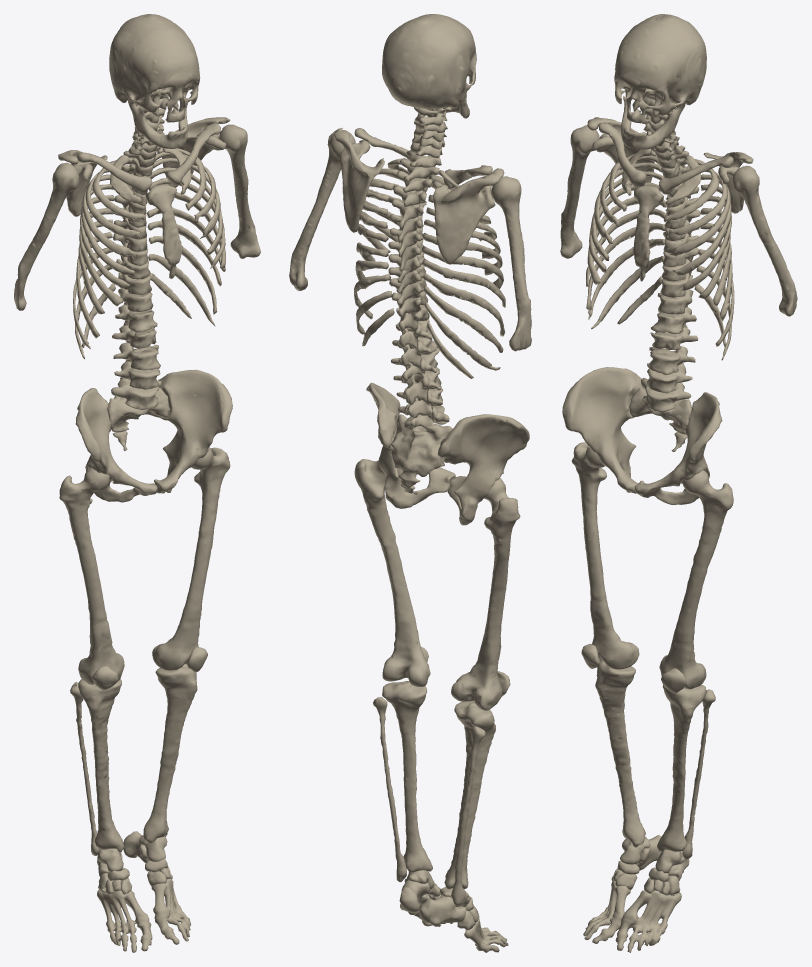
File: vhf_denver_ct_adult_female.skeletal.LOD3.glb
The picture shows the model from 3 angles, left to right: view 1: azimuth 30°, elevation 25°; view 2: azimuth 150°, elevation 25°; view 3: azimuth 330°, elevation 25°; orthographic projection. The views are drawn at different scales.
Visible parts, largest first — view 1: VHF_DENVER_CT.ADULT.FEMALE.SKELETAL.SKULL_CRANIUM_AND_MANDIB, VHF_DENVER_CT.ADULT.FEMALE.SKELETAL.HIP_BONE_OS_COXAE.L, VHF_DENVER_CT.ADULT.FEMALE.SKELETAL.FEMUR.R, VHF_DENVER_CT.ADULT.FEMALE.SKELETAL.FEMUR.L, VHF_DENVER_CT.ADULT.FEMALE.SKELETAL.TIBIA.L, VHF_DENVER_CT.ADULT.FEMALE.SKELETAL.METATARSALS_AND_PHALANGE (×2), VHF_DENVER_CT.ADULT.FEMALE.SKELETAL.HIP_BONE_OS_COXAE.R, VHF_DENVER_CT.ADULT.FEMALE.SKELETAL.TIBIA.R, VHF_DENVER_CT.ADULT.FEMALE.SKELETAL.HUMERUS.L, VHF_DENVER_CT.ADULT.FEMALE.SKELETAL.HUMERUS.R, VHF_DENVER_CT.ADULT.FEMALE.SKELETAL.STERNUM, VHF_DENVER_CT.ADULT.FEMALE.SKELETAL.VERTEBRA_L3 (+20 smaller); view 2: VHF_DENVER_CT.ADULT.FEMALE.SKELETAL.SKULL_CRANIUM_AND_MANDIB, VHF_DENVER_CT.ADULT.FEMALE.SKELETAL.HIP_BONE_OS_COXAE.R, VHF_DENVER_CT.ADULT.FEMALE.SKELETAL.FEMUR.L, VHF_DENVER_CT.ADULT.FEMALE.SKELETAL.FEMUR.R, VHF_DENVER_CT.ADULT.FEMALE.SKELETAL.SCAPULA.R, VHF_DENVER_CT.ADULT.FEMALE.SKELETAL.TIBIA.L, VHF_DENVER_CT.ADULT.FEMALE.SKELETAL.HIP_BONE_OS_COXAE.L, VHF_DENVER_CT.ADULT.FEMALE.SKELETAL.TIBIA.R, VHF_DENVER_CT.ADULT.FEMALE.SKELETAL.HUMERUS.R, VHF_DENVER_CT.ADULT.FEMALE.SKELETAL.SACRUM, VHF_DENVER_CT.ADULT.FEMALE.SKELETAL.SCAPULA.L, VHF_DENVER_CT.ADULT.FEMALE.SKELETAL.HUMERUS.L (+16 smaller); view 3: VHF_DENVER_CT.ADULT.FEMALE.SKELETAL.SKULL_CRANIUM_AND_MANDIB, VHF_DENVER_CT.ADULT.FEMALE.SKELETAL.HIP_BONE_OS_COXAE.R, VHF_DENVER_CT.ADULT.FEMALE.SKELETAL.FEMUR.L, VHF_DENVER_CT.ADULT.FEMALE.SKELETAL.FEMUR.R, VHF_DENVER_CT.ADULT.FEMALE.SKELETAL.TIBIA.R, VHF_DENVER_CT.ADULT.FEMALE.SKELETAL.METATARSALS_AND_PHALANGE (×2), VHF_DENVER_CT.ADULT.FEMALE.SKELETAL.HIP_BONE_OS_COXAE.L, VHF_DENVER_CT.ADULT.FEMALE.SKELETAL.TIBIA.L, VHF_DENVER_CT.ADULT.FEMALE.SKELETAL.HUMERUS.L, VHF_DENVER_CT.ADULT.FEMALE.SKELETAL.HUMERUS.R, VHF_DENVER_CT.ADULT.FEMALE.SKELETAL.VERTEBRA_L3, VHF_DENVER_CT.ADULT.FEMALE.SKELETAL.STERNUM (+20 smaller).
Boxes of the visible parts, box(x1,y1,x2,y2) form: VHF_DENVER_CT.ADULT.FEMALE.SKELETAL.SKULL_CRANIUM_AND_MANDIB: box(109, 14, 200, 148); VHF_DENVER_CT.ADULT.FEMALE.SKELETAL.HIP_BONE_OS_COXAE.L: box(154, 369, 232, 493); VHF_DENVER_CT.ADULT.FEMALE.SKELETAL.FEMUR.R: box(59, 467, 124, 684); VHF_DENVER_CT.ADULT.FEMALE.SKELETAL.FEMUR.L: box(152, 447, 230, 670); VHF_DENVER_CT.ADULT.FEMALE.SKELETAL.TIBIA.L: box(143, 664, 197, 843); VHF_DENVER_CT.ADULT.FEMALE.SKELETAL.METATARSALS_AND_PHALANGE (×2): box(97, 878, 190, 952); VHF_DENVER_CT.ADULT.FEMALE.SKELETAL.HIP_BONE_OS_COXAE.R: box(75, 388, 157, 502); VHF_DENVER_CT.ADULT.FEMALE.SKELETAL.TIBIA.R: box(78, 679, 124, 852); VHF_DENVER_CT.ADULT.FEMALE.SKELETAL.HUMERUS.L: box(219, 124, 260, 258); VHF_DENVER_CT.ADULT.FEMALE.SKELETAL.HUMERUS.R: box(14, 162, 79, 310); VHF_DENVER_CT.ADULT.FEMALE.SKELETAL.STERNUM: box(145, 184, 182, 278); VHF_DENVER_CT.ADULT.FEMALE.SKELETAL.VERTEBRA_L3: box(112, 325, 160, 370); VHF_DENVER_CT.ADULT.FEMALE.SKELETAL.SKULL_CRANIUM_AND_MANDIB: box(382, 14, 476, 118); VHF_DENVER_CT.ADULT.FEMALE.SKELETAL.HIP_BONE_OS_COXAE.R: box(437, 414, 529, 525); VHF_DENVER_CT.ADULT.FEMALE.SKELETAL.FEMUR.L: box(354, 459, 430, 686); VHF_DENVER_CT.ADULT.FEMALE.SKELETAL.FEMUR.R: box(451, 478, 520, 710); VHF_DENVER_CT.ADULT.FEMALE.SKELETAL.SCAPULA.R: box(433, 168, 504, 264); VHF_DENVER_CT.ADULT.FEMALE.SKELETAL.TIBIA.L: box(382, 681, 432, 872); VHF_DENVER_CT.ADULT.FEMALE.SKELETAL.HIP_BONE_OS_COXAE.L: box(366, 382, 455, 508); VHF_DENVER_CT.ADULT.FEMALE.SKELETAL.TIBIA.R: box(444, 701, 495, 889); VHF_DENVER_CT.ADULT.FEMALE.SKELETAL.HUMERUS.R: box(491, 176, 531, 351); VHF_DENVER_CT.ADULT.FEMALE.SKELETAL.SACRUM: box(390, 414, 452, 487); VHF_DENVER_CT.ADULT.FEMALE.SKELETAL.SCAPULA.L: box(334, 128, 384, 232); VHF_DENVER_CT.ADULT.FEMALE.SKELETAL.HUMERUS.L: box(289, 130, 355, 290); VHF_DENVER_CT.ADULT.FEMALE.SKELETAL.SKULL_CRANIUM_AND_MANDIB: box(614, 14, 706, 149); VHF_DENVER_CT.ADULT.FEMALE.SKELETAL.HIP_BONE_OS_COXAE.R: box(562, 367, 642, 493); VHF_DENVER_CT.ADULT.FEMALE.SKELETAL.FEMUR.L: box(659, 470, 733, 689); VHF_DENVER_CT.ADULT.FEMALE.SKELETAL.FEMUR.R: box(571, 442, 639, 669); VHF_DENVER_CT.ADULT.FEMALE.SKELETAL.TIBIA.R: box(595, 661, 645, 847); VHF_DENVER_CT.ADULT.FEMALE.SKELETAL.METATARSALS_AND_PHALANGE (×2): box(583, 880, 681, 952); VHF_DENVER_CT.ADULT.FEMALE.SKELETAL.HIP_BONE_OS_COXAE.L: box(635, 392, 722, 504); VHF_DENVER_CT.ADULT.FEMALE.SKELETAL.TIBIA.L: box(657, 684, 706, 851); VHF_DENVER_CT.ADULT.FEMALE.SKELETAL.HUMERUS.L: box(732, 165, 797, 316); VHF_DENVER_CT.ADULT.FEMALE.SKELETAL.HUMERUS.R: box(560, 125, 599, 258); VHF_DENVER_CT.ADULT.FEMALE.SKELETAL.VERTEBRA_L3: box(648, 327, 698, 375); VHF_DENVER_CT.ADULT.FEMALE.SKELETAL.STERNUM: box(633, 185, 663, 281).
Size of the model in its own units: 0.4671 by 1.71 by 0.2196.
